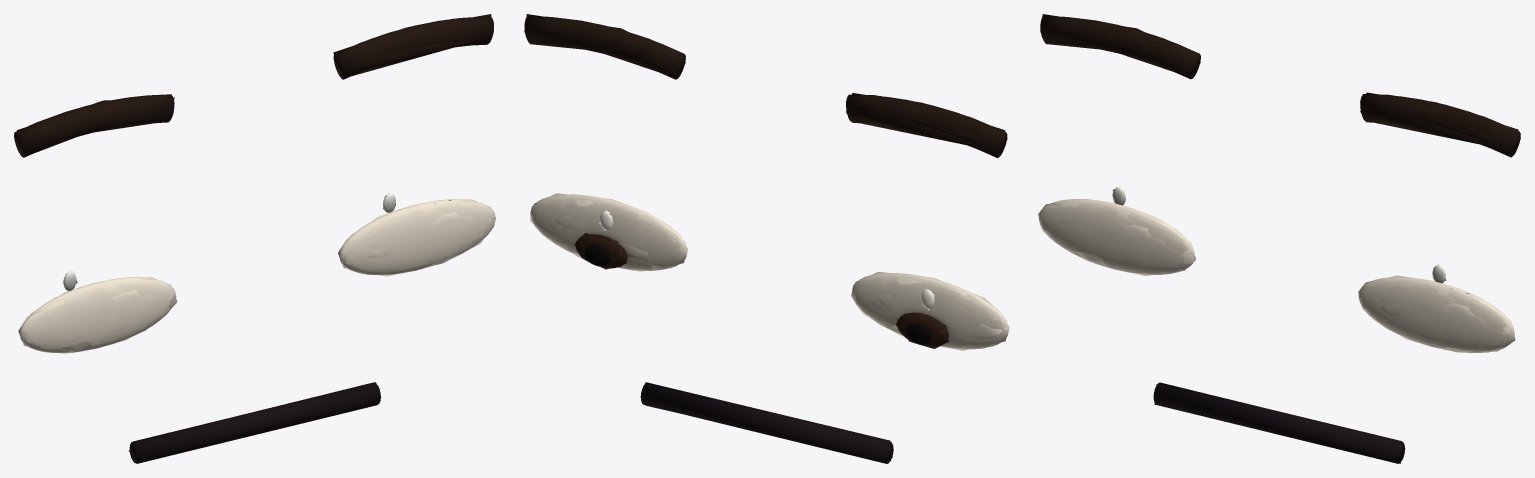
The model's file is sleepy.glb.
3 views of the same model, side by side, from view 1: azimuth 30°, elevation 25°; view 2: azimuth 150°, elevation 25°; view 3: azimuth 330°, elevation 25° (orthographic).
Visible parts, largest first — view 1: near, mid, far; view 2: near, mid, far; view 3: near, mid, far.
Part boxes in pixels (x1,y1,x2,y2): near: [14, 17, 495, 463]; mid: [14, 17, 495, 463]; far: [17, 14, 494, 463]; near: [524, 16, 1008, 463]; mid: [524, 17, 1007, 463]; far: [524, 14, 1009, 459]; near: [1039, 16, 1520, 463]; mid: [1039, 17, 1520, 463]; far: [1038, 14, 1520, 463].
Size of the model in its own units: 0.6717 by 0.4954 by 0.0541.
6 materials, 6 textured.
